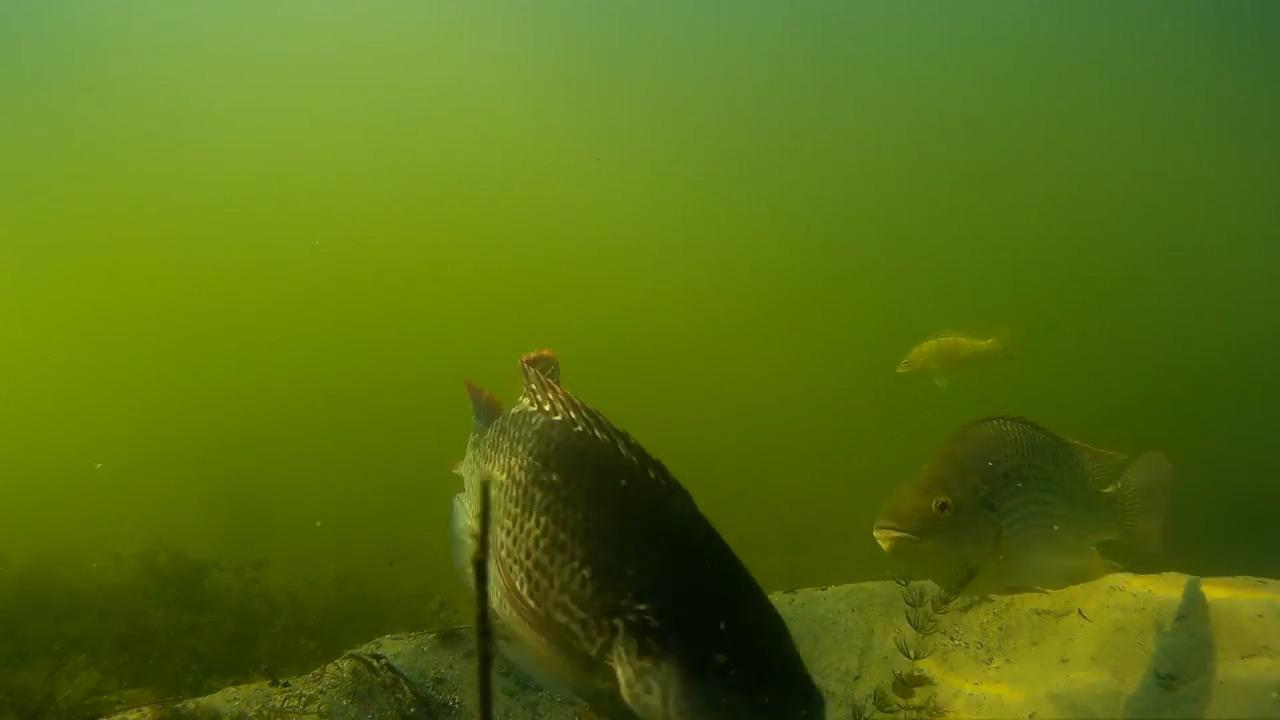Tilapia: (430, 326, 831, 716), (861, 424, 1184, 606)
